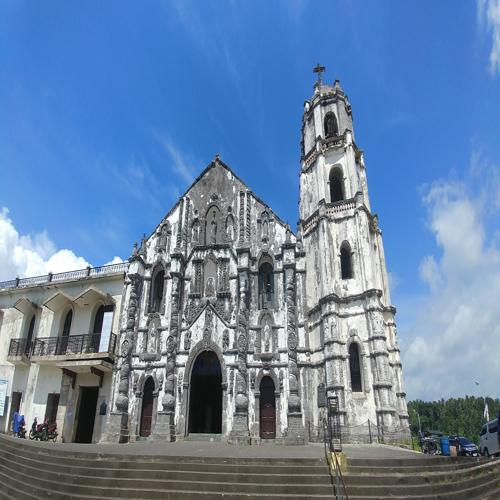Daraga Church: (106, 50, 415, 459)
